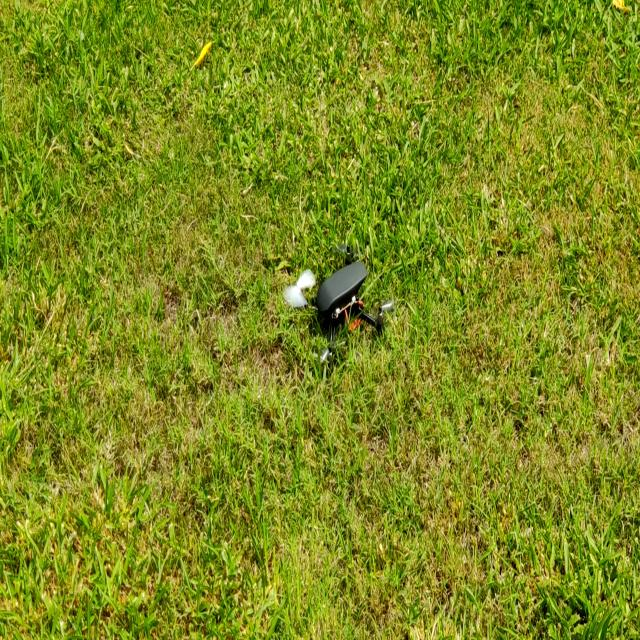drone: (262, 246, 409, 371)
